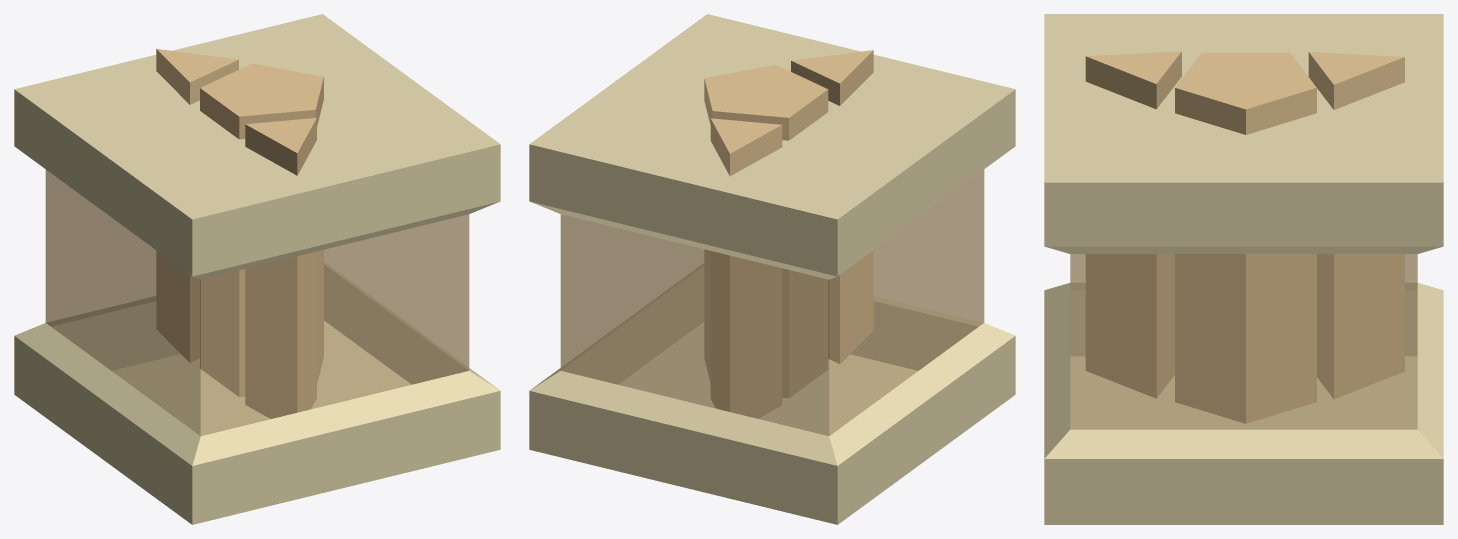
Rendered from gold-right.fbx.
3 renders of one model, left to right at view 1: azimuth 30°, elevation 25°; view 2: azimuth 150°, elevation 25°; view 3: azimuth 270°, elevation 25°, orthographic. The views are drawn at different scales.
Parts seen in each view (by area): view 1: polySurface49; view 2: polySurface49; view 3: polySurface49.
Part boxes in pixels (bbox=[...]): polySurface49: bbox=[14, 14, 500, 524]; polySurface49: bbox=[529, 14, 1015, 524]; polySurface49: bbox=[1044, 14, 1443, 524].
Size of the model in its own units: 2 by 2.03 by 2.
